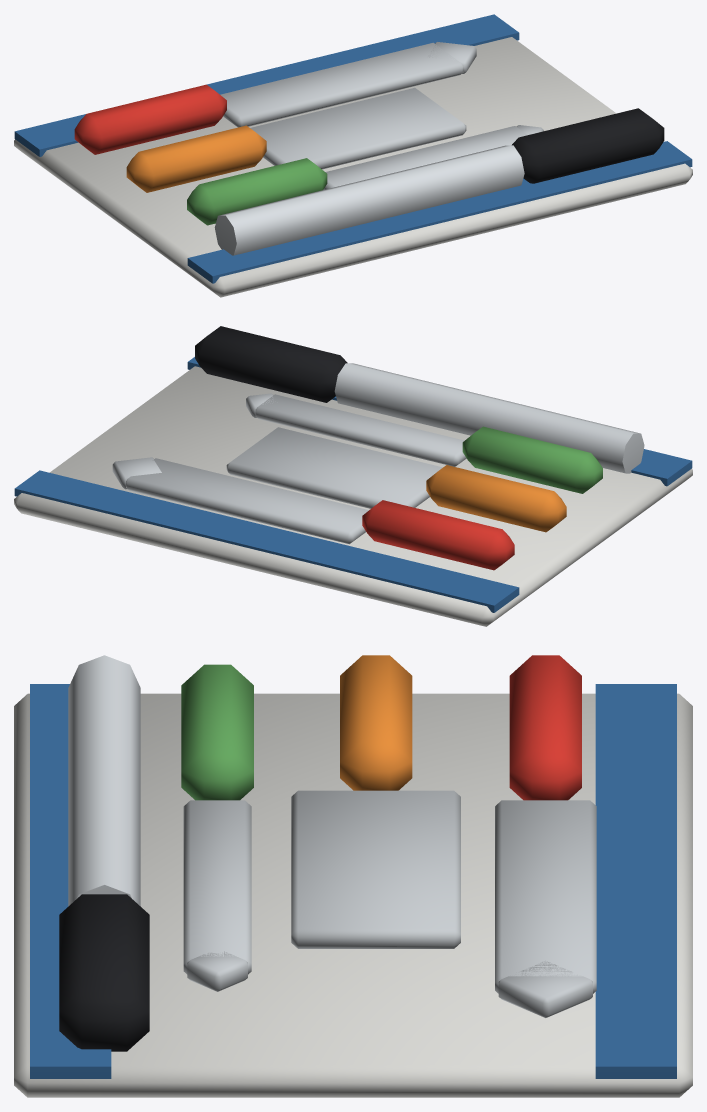
Rendered from SM_KnifeSet_Com_01.glb.
3 views of the same model, one above another, from view 1: azimuth 30°, elevation 25°; view 2: azimuth 150°, elevation 25°; view 3: azimuth 270°, elevation 25° (orthographic). The views are drawn at different scales.
Parts seen in each view (by area): view 1: SM_KnifeSet_Com_01; view 2: SM_KnifeSet_Com_01; view 3: SM_KnifeSet_Com_01.
Part boxes in pixels (x1,y1,x2,y2): SM_KnifeSet_Com_01: (14, 14, 692, 297); SM_KnifeSet_Com_01: (14, 326, 692, 626); SM_KnifeSet_Com_01: (14, 655, 692, 1097).
Size of the model in its own units: 0.4 by 0.046 by 0.3.
Materials: 1 (1 with a texture image).
